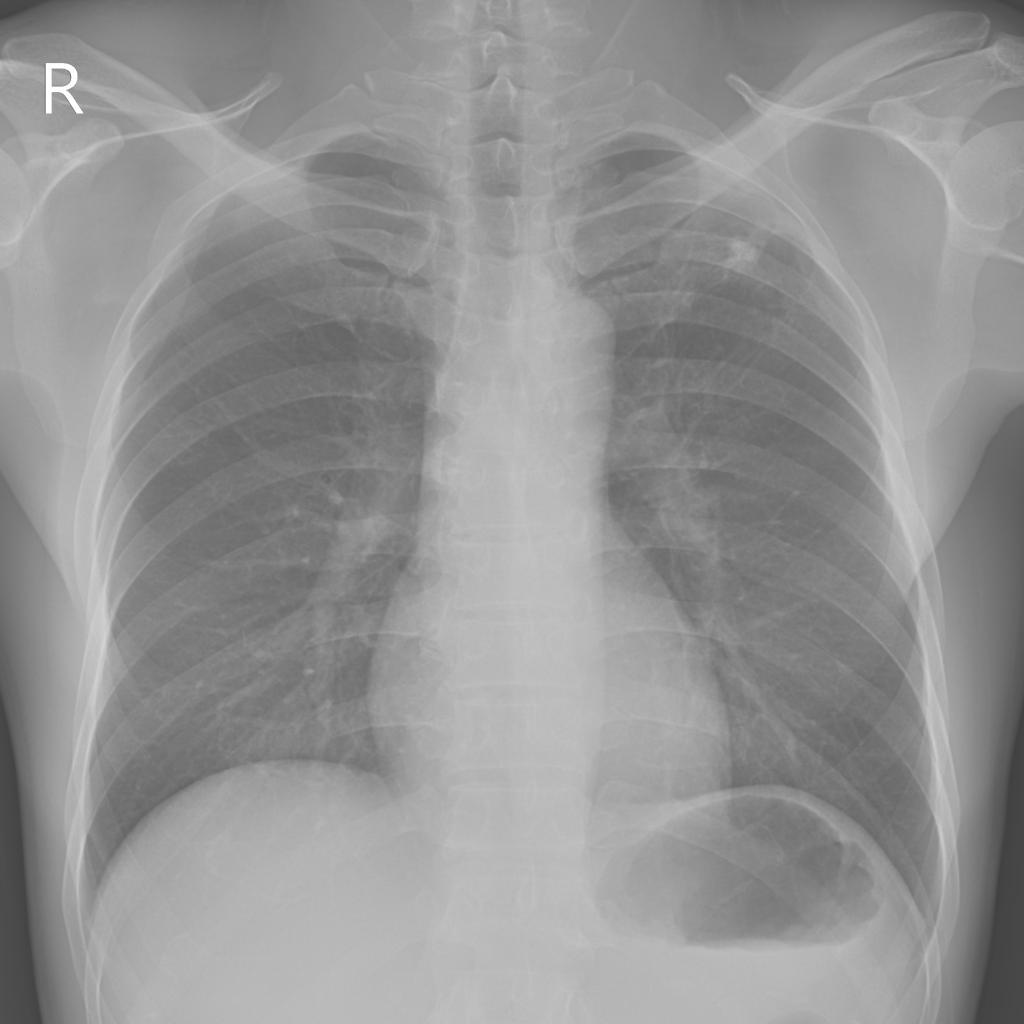Nodule: (720, 231, 760, 274)
